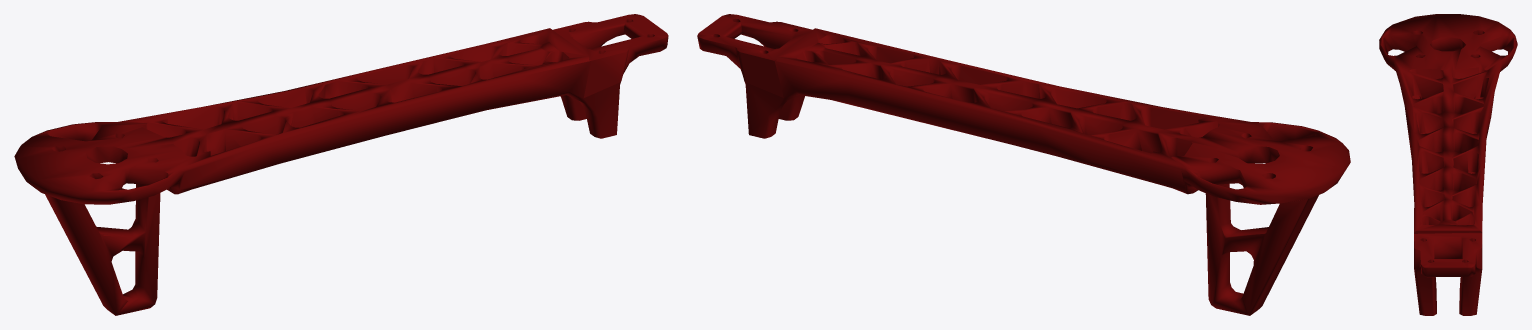
The model's file is f330_arm.dae.
3 views of the same model, side by side, from view 1: azimuth 30°, elevation 25°; view 2: azimuth 150°, elevation 25°; view 3: azimuth 270°, elevation 25° (orthographic). The views are drawn at different scales.
Parts seen in each view (by area): view 1: f330_arm; view 2: f330_arm; view 3: f330_arm.
Boxes of the visible parts, <box> form: f330_arm: <box>14,14,668,315</box>; f330_arm: <box>697,14,1350,315</box>; f330_arm: <box>1379,14,1517,315</box>.
Size of the model in its own units: 0.1554 by 0.036 by 0.0378.
